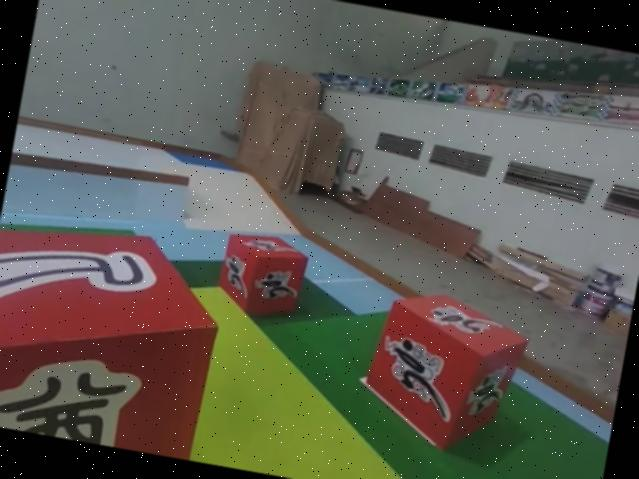R1: (355, 285, 535, 453), (214, 225, 313, 322)
R2 Fake: (0, 204, 232, 460)
